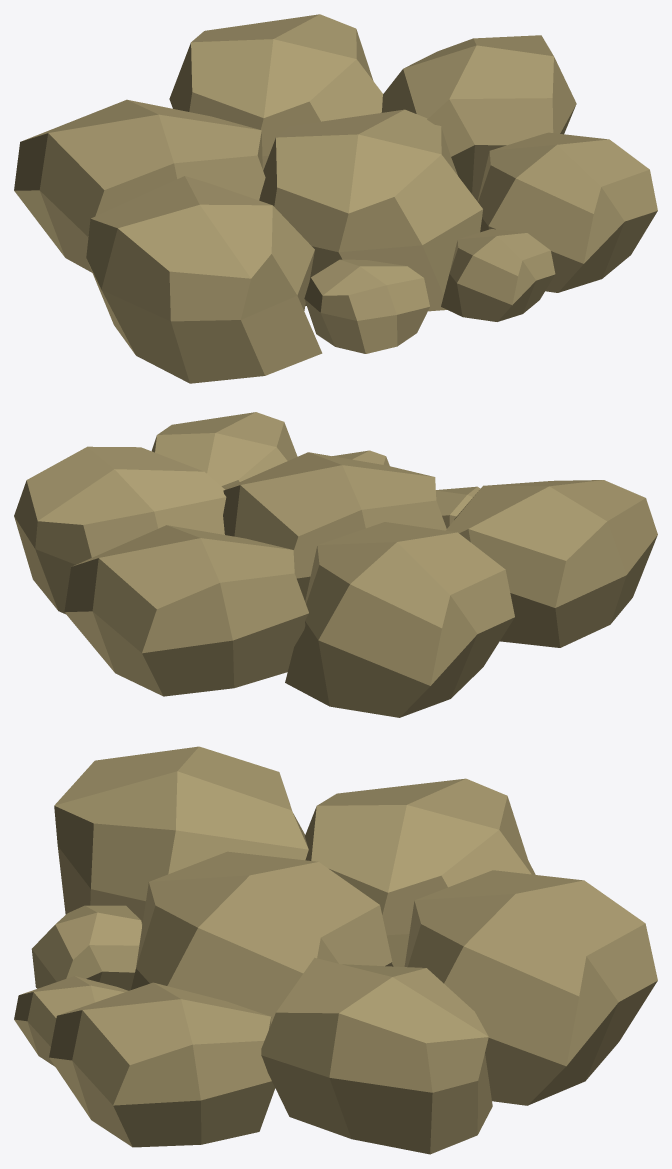
The model's file is desert_stone_2.fbx.
3 views of the same model, one above another, from view 1: azimuth 30°, elevation 25°; view 2: azimuth 150°, elevation 25°; view 3: azimuth 270°, elevation 25° (orthographic). The views are drawn at different scales.
Parts seen in each view (by area): view 1: Cube.007; view 2: Cube.007; view 3: Cube.007.
Part boxes in pixels (x1=…): Cube.007: x1=14, y1=14, x2=657, y2=383; Cube.007: x1=14, y1=412, x2=657, y2=717; Cube.007: x1=14, y1=746, x2=657, y2=1154.
Size of the model in its own units: 83.44 by 20.35 by 75.12.
